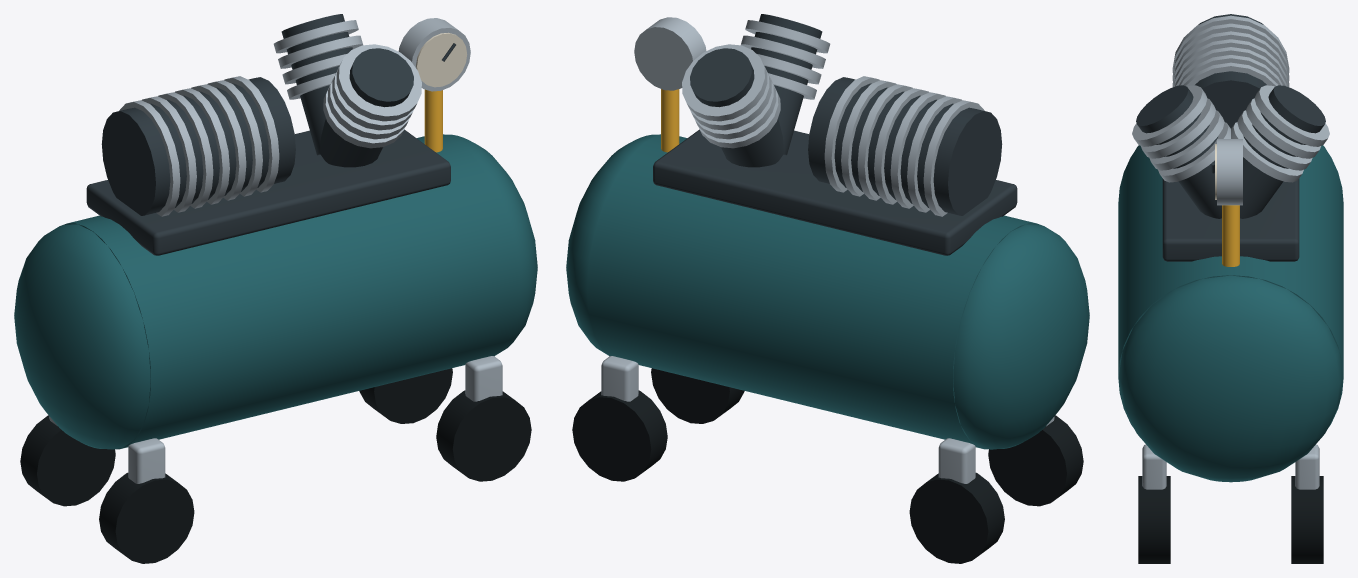
Rendered from 03_kompresor.glb.
The picture shows the model from 3 angles, left to right: view 1: azimuth 30°, elevation 25°; view 2: azimuth 150°, elevation 25°; view 3: azimuth 270°, elevation 25°; orthographic projection. The views are drawn at different scales.
Visible parts, largest first — view 1: 03_kompresor__frame; view 2: 03_kompresor__frame; view 3: 03_kompresor__frame.
Boxes of the visible parts, x1,y1,x2,y2 form: 03_kompresor__frame: (14, 14, 537, 563); 03_kompresor__frame: (566, 14, 1089, 563); 03_kompresor__frame: (1118, 14, 1343, 563).
Bounding box in the file's own units: 1.32 × 1.16 × 0.56.
